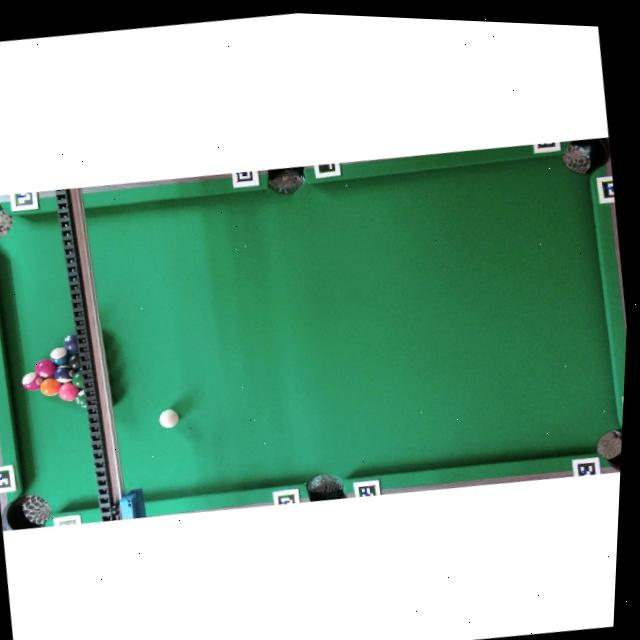cue ball: (156, 407, 181, 431)
other: (56, 380, 81, 403), (34, 357, 58, 380), (21, 370, 45, 393), (38, 376, 62, 398), (52, 364, 76, 386), (48, 345, 70, 367), (62, 332, 80, 354), (70, 370, 86, 391), (65, 353, 81, 372), (74, 388, 87, 410)
